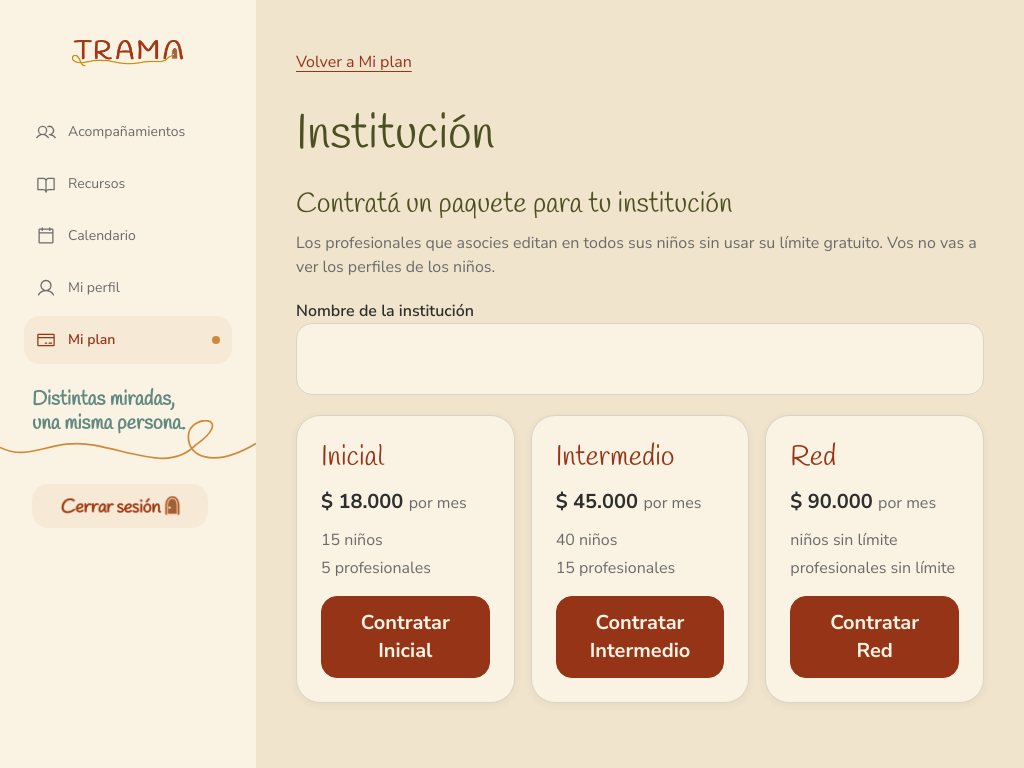
Scenario: 9.2: paquete institucional › contrata un paquete con el pago de prueba
Type "Escuela Ficticia" into the field labelled "Nombre de la institución".
click(640, 359); type("Escuela Ficticia")  # box [296,323,984,395]
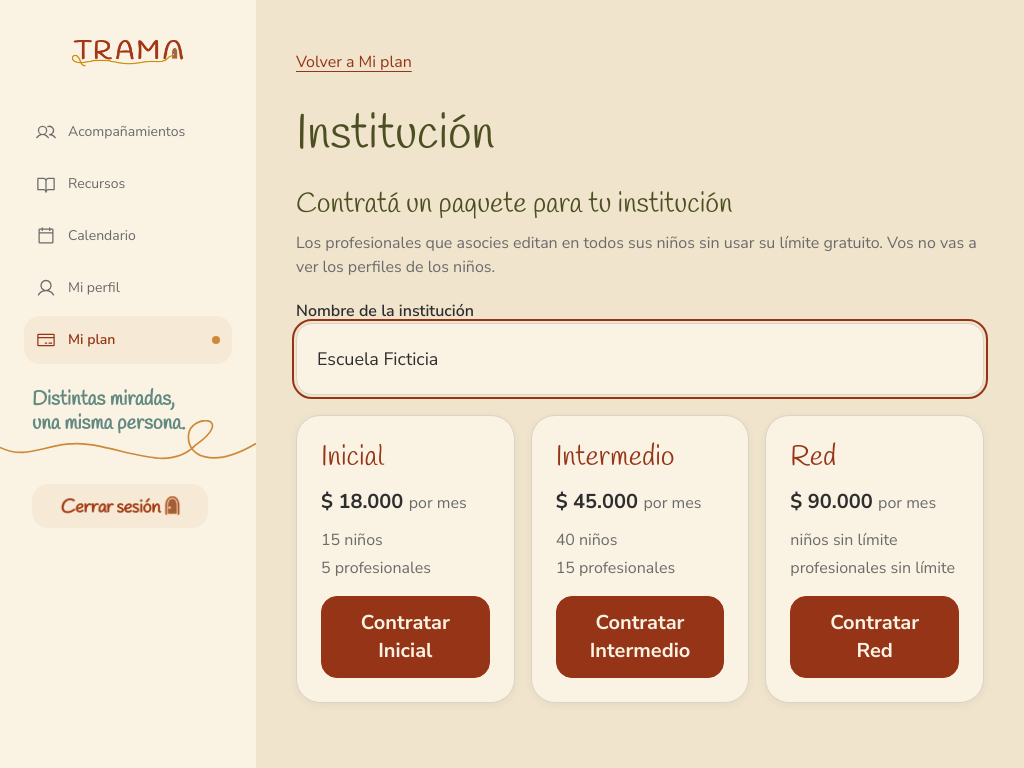
Click the button "Contratar Inicial".
click(405, 637)  # box [321,596,490,678]
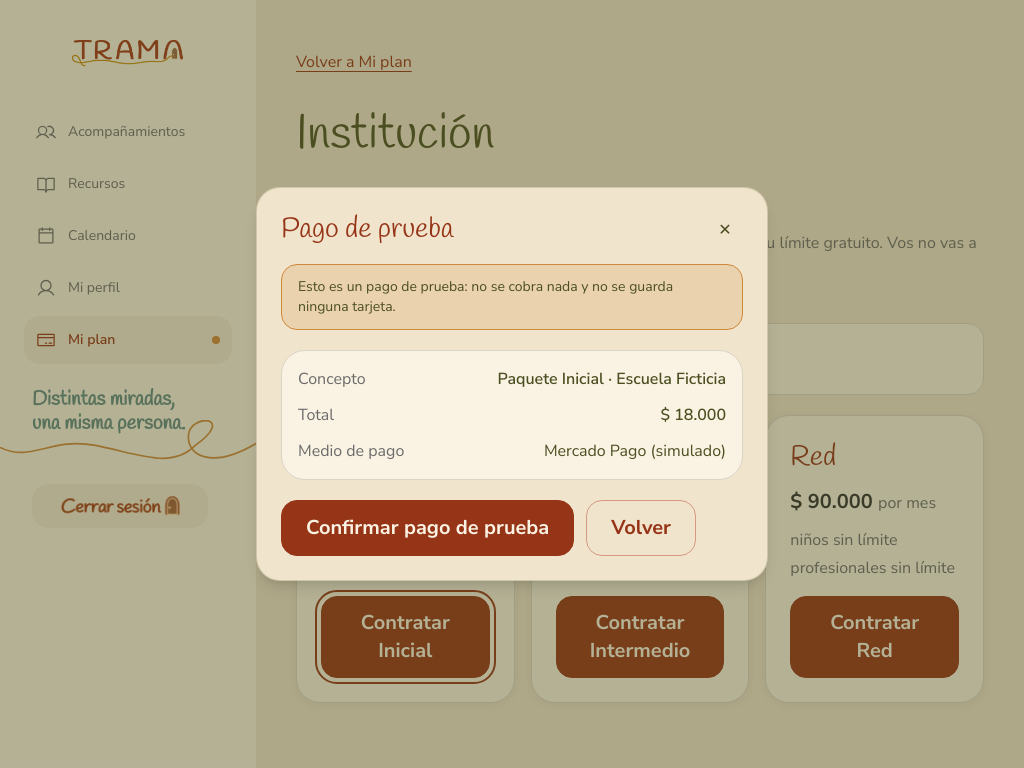
Expected: the text "Paquete Inicial · Escuela Ficticia" is shown, [498,367,726,391]
Click the button "Confirmar pago de prueba".
click(428, 528)  # box [281,500,574,556]
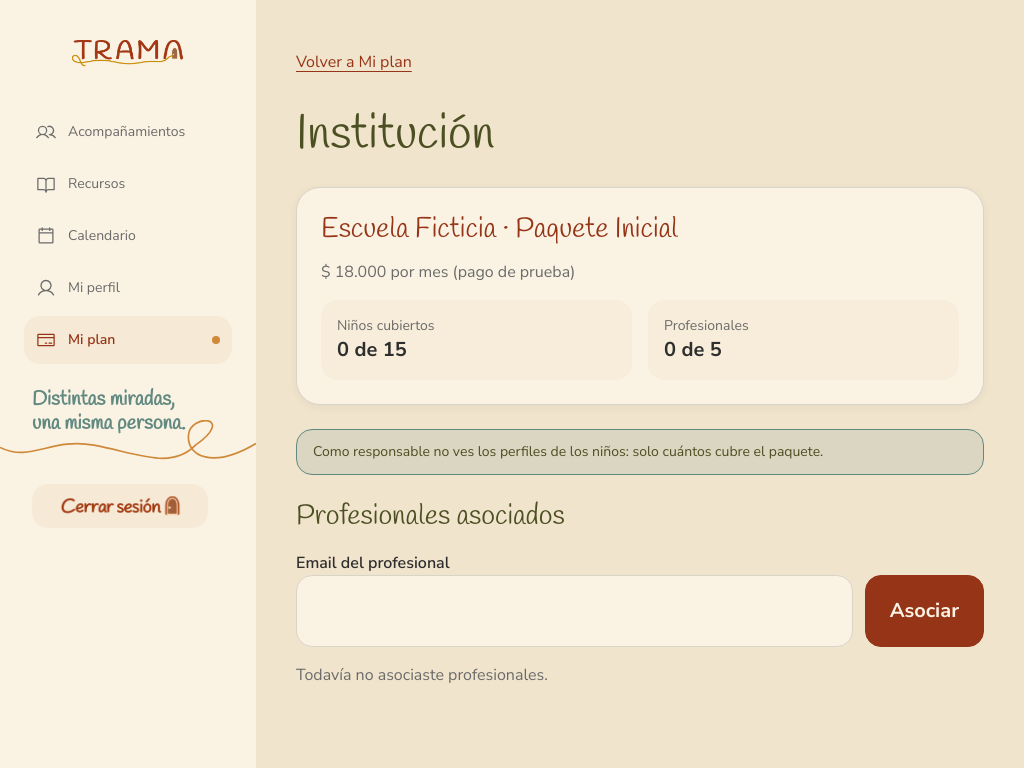
Expected: the heading "Escuela Ficticia · Paquete Inicial" is shown, [321,211,678,248]
Expected: the text "0 de 15" is shown, [337,336,407,363]
